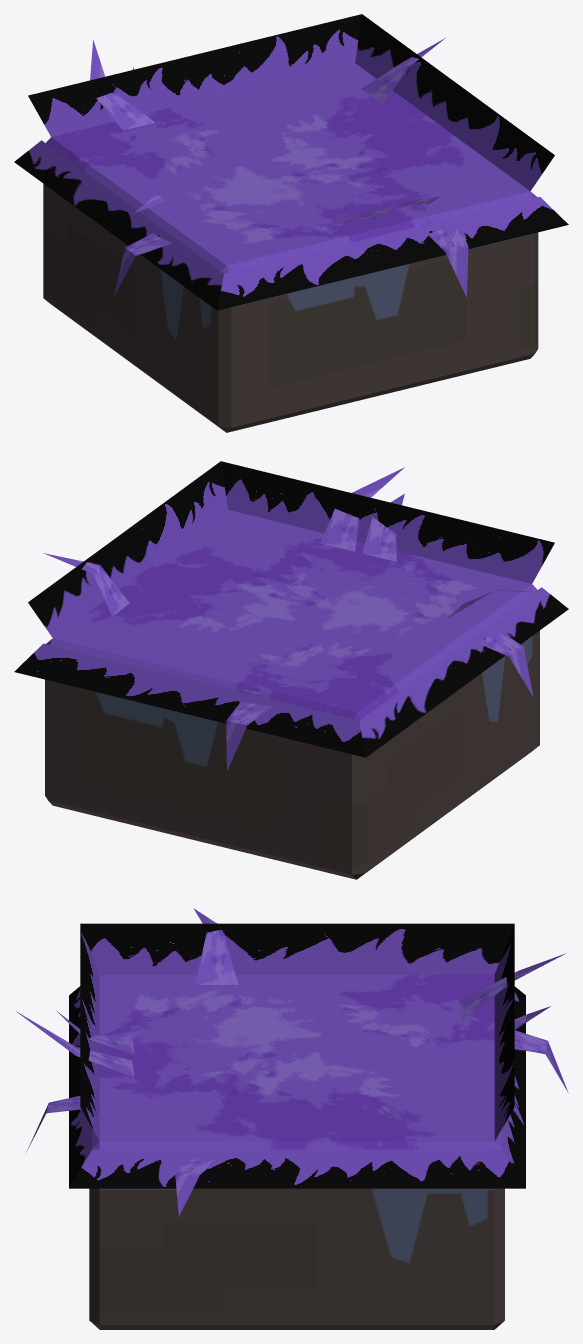
The model's file is tilegrasspurple001.glb.
3 views of the same model, one above another, from view 1: azimuth 30°, elevation 25°; view 2: azimuth 150°, elevation 25°; view 3: azimuth 270°, elevation 25° (orthographic). The views are drawn at different scales.
Visible parts, largest first — view 1: tilegrasspurple001; view 2: tilegrasspurple001; view 3: tilegrasspurple001.
Part boxes in pixels (box(x1,y1,x2,y2)): tilegrasspurple001: box(14, 14, 568, 432); tilegrasspurple001: box(14, 461, 568, 879); tilegrasspurple001: box(16, 908, 568, 1329).
Size of the model in its own units: 1.29 by 0.6672 by 1.34.
Materials: 2 (2 with a texture image).
